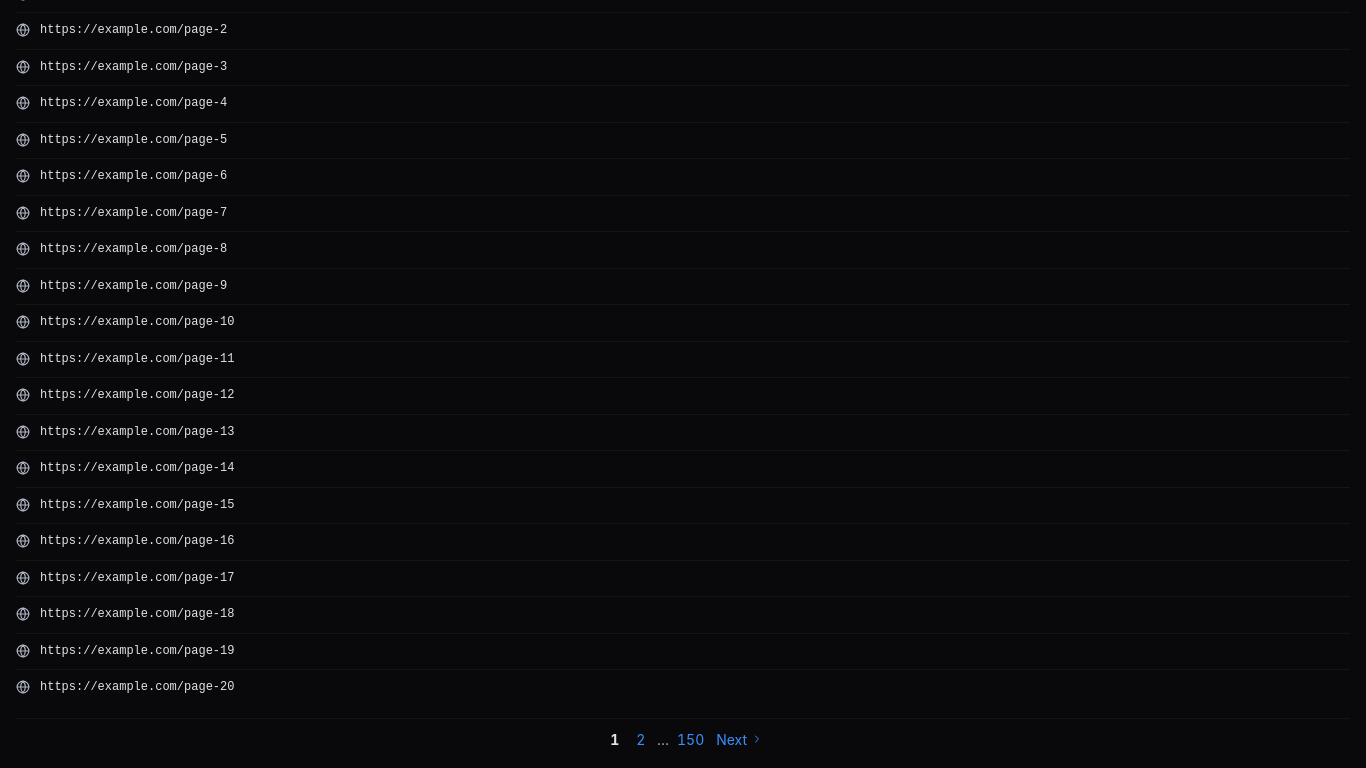
Issue dossier sections › bounds the affected-page list and reveals the rest through the pager
(page scrolled)
Click the button with aria-label "Next location page".
click(740, 739)  # box x1=716 y1=728 x2=763 y2=750
(page scrolled)
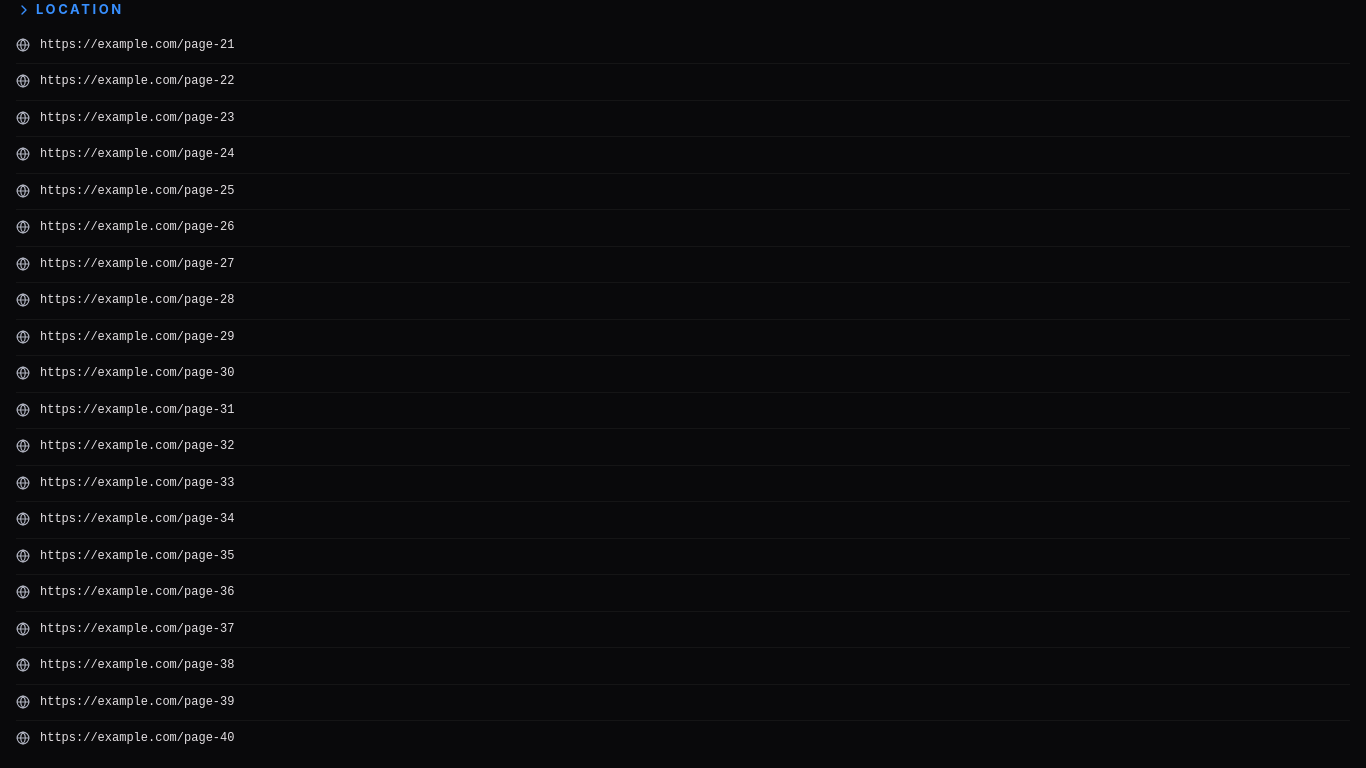
Now the text "https://example.com/page-21" is shown, box x1=40 y1=38 x2=234 y2=52
